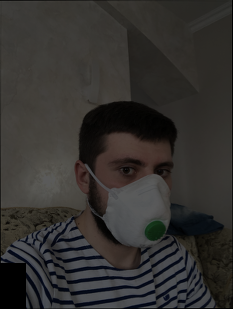with_mask: (102, 147, 172, 249)
